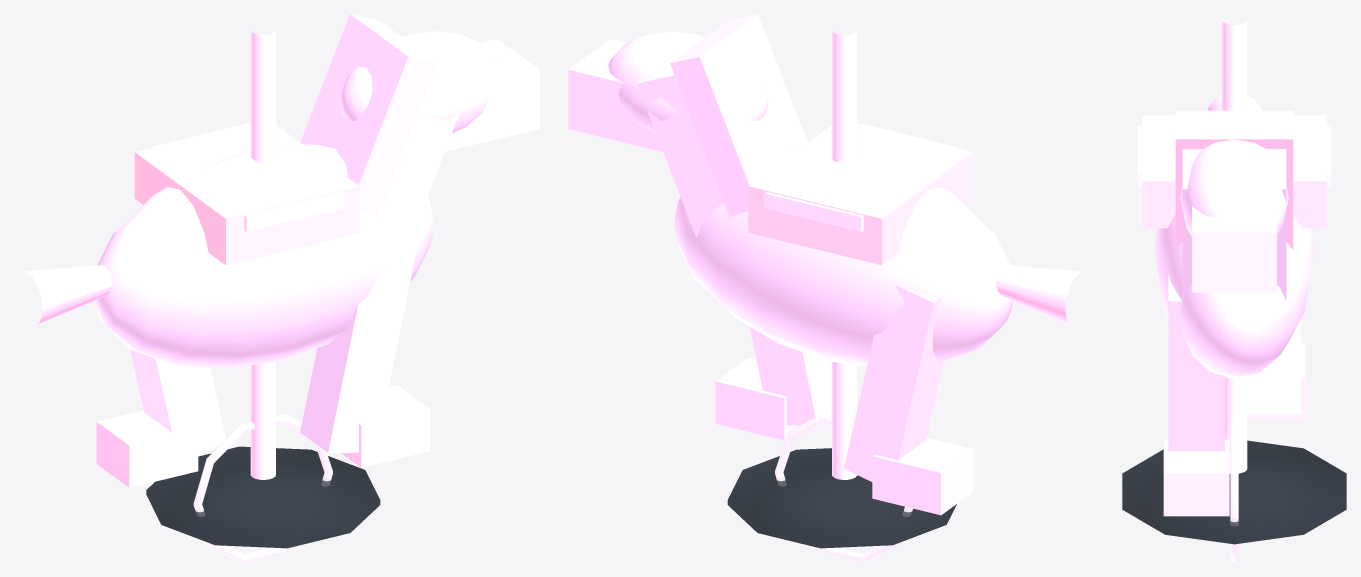
The model's file is carousel-comic-neon-paper.glb.
3 views of the same model, side by side, from view 1: azimuth 30°, elevation 25°; view 2: azimuth 150°, elevation 25°; view 3: azimuth 270°, elevation 25° (orthographic).
Visible parts, largest first — view 1: body, visual-depth-shadow, saddle, mane, leg-front, pole, hoof-back, head, leg-back, neck, muzzle, hoof-front (+3 smaller); view 2: body, saddle, mane, visual-depth-shadow, leg-back, hoof-back, pole, head, neck, muzzle, leg-front, hoof-front (+3 smaller); view 3: visual-depth-shadow, body, saddle, head, muzzle, leg-front, mane, hoof-front, pole, leg-back, neck, visual-fx-halo (+3 smaller).
Boxes of the visible parts, box(x1,y1,x2,y2) form: body: box(94, 144, 433, 368); visual-depth-shadow: box(146, 446, 380, 548); saddle: box(134, 124, 359, 265); mane: box(300, 14, 437, 216); leg-front: box(300, 238, 417, 452); pole: box(250, 31, 275, 479); hoof-back: box(96, 410, 198, 487); head: box(340, 31, 499, 132); leg-back: box(130, 349, 225, 454); neck: box(384, 72, 471, 237); muzzle: box(445, 39, 539, 151); hoof-front: box(341, 385, 429, 467); body: box(674, 144, 1013, 366); saddle: box(748, 124, 973, 265); mane: box(670, 14, 807, 216); visual-depth-shadow: box(727, 448, 956, 548); leg-back: box(844, 284, 943, 481); hoof-back: box(872, 437, 973, 515); pole: box(832, 31, 857, 479); head: box(608, 31, 767, 132); neck: box(636, 72, 723, 237); muzzle: box(568, 39, 662, 151); leg-front: box(750, 327, 831, 425); hoof-front: box(715, 357, 799, 440); visual-depth-shadow: box(1122, 440, 1346, 544); body: box(1154, 214, 1314, 379); saddle: box(1142, 115, 1326, 228); head: box(1180, 139, 1288, 235); muzzle: box(1192, 206, 1276, 292); leg-front: box(1168, 273, 1224, 451); mane: box(1175, 110, 1293, 249); hoof-front: box(1163, 439, 1229, 516); pole: box(1221, 20, 1247, 473); leg-back: box(1247, 319, 1300, 414); neck: box(1182, 149, 1286, 300); visual-fx-halo: box(1230, 418, 1238, 562).
Bounding box in the file's own units: 2.42 × 2.49 × 0.9511.
